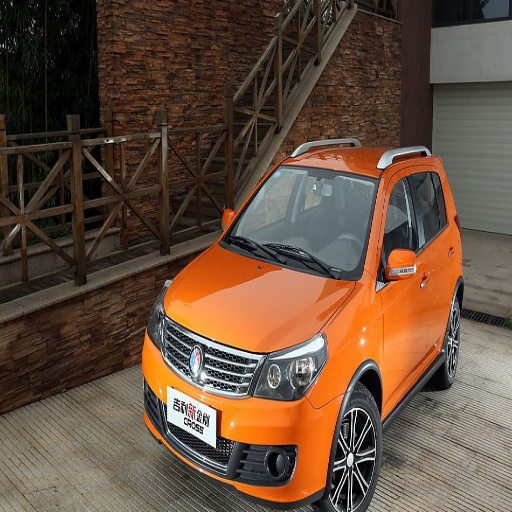front_bumper: (146, 320, 343, 498)
front_glass: (221, 161, 379, 279)
front_left_door: (377, 166, 428, 401)
